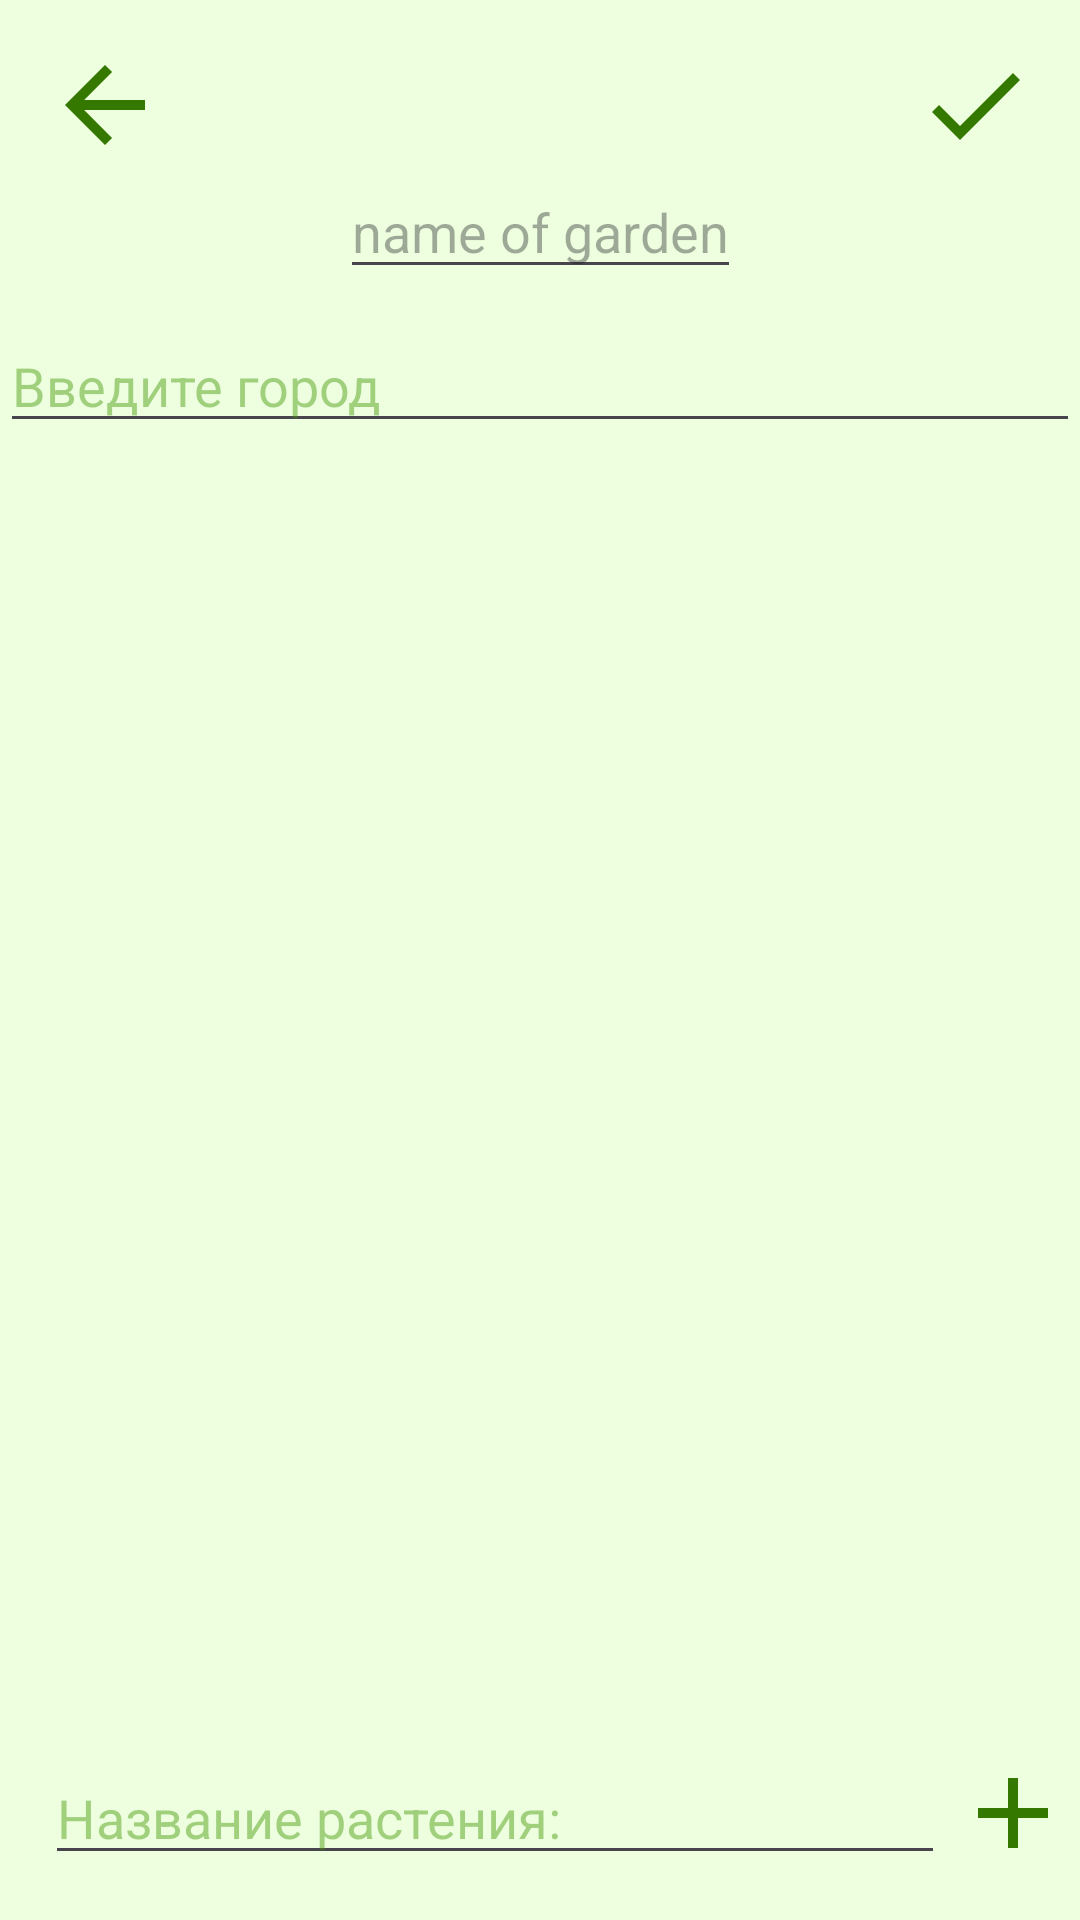

Icons on this 1080x1920 Android screen, each with the point to tap as [x,y]:
add: [1013,1813]
back: [105,105]
done: [976,106]
